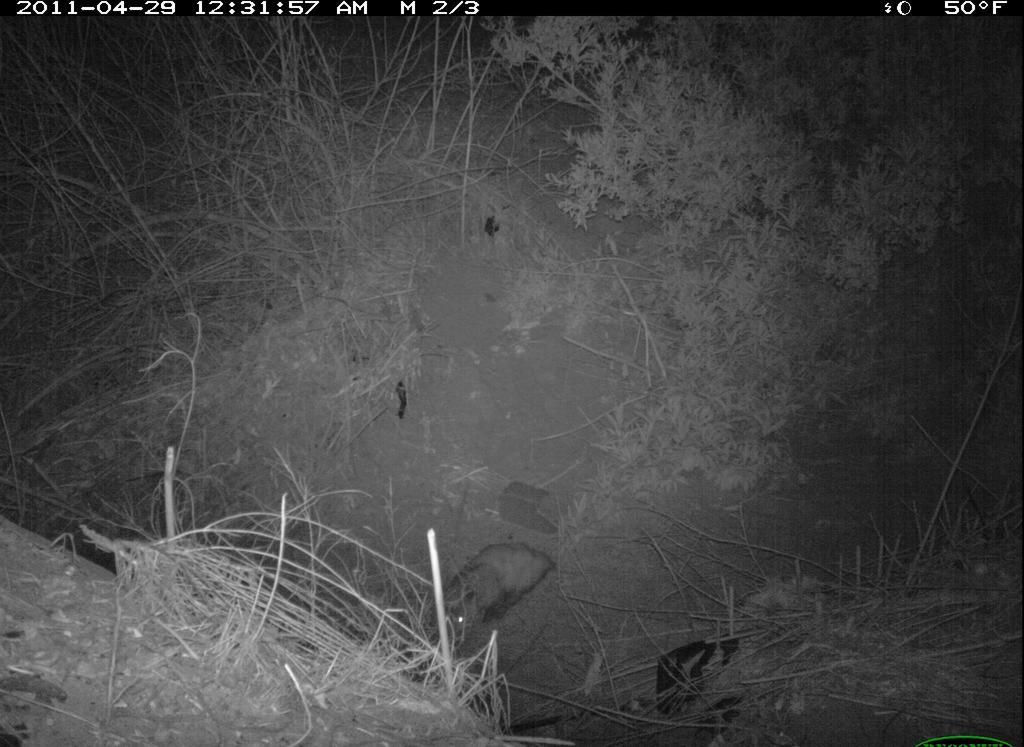opossum: (428, 533, 564, 656)
